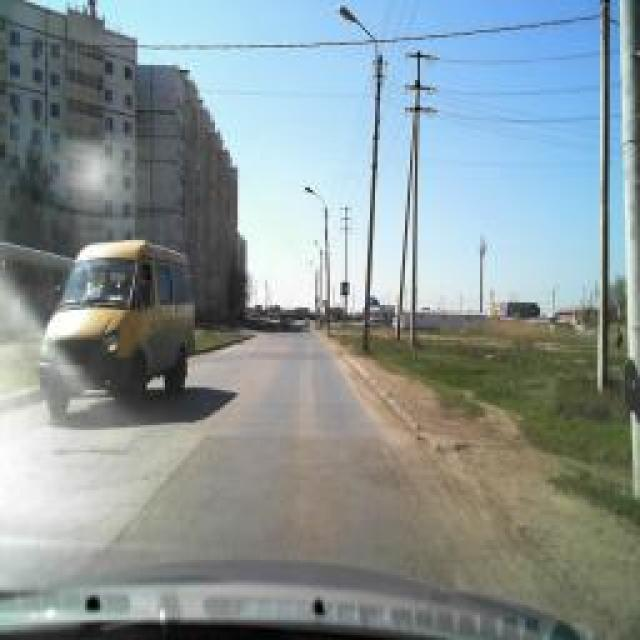sign: (340, 282, 350, 296)
